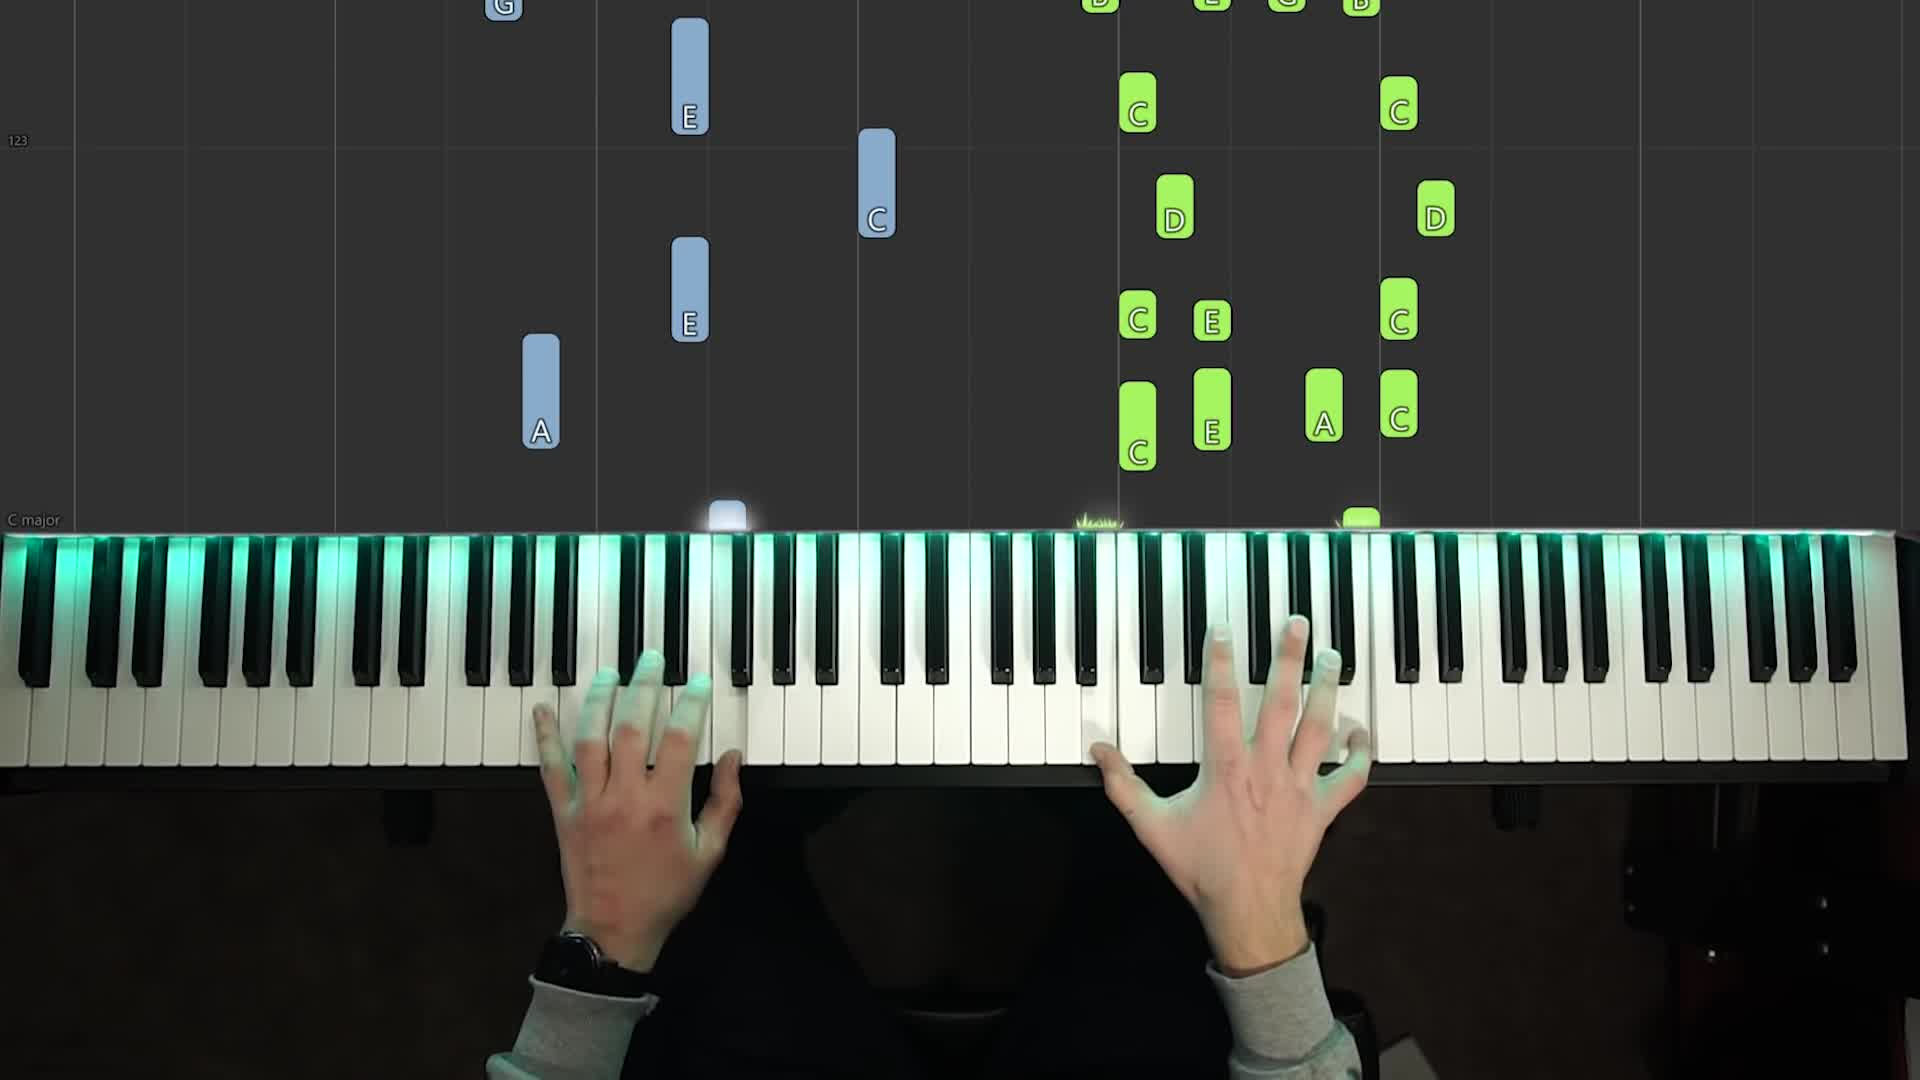left: (530, 647, 748, 931)
right: (1091, 613, 1377, 902)
